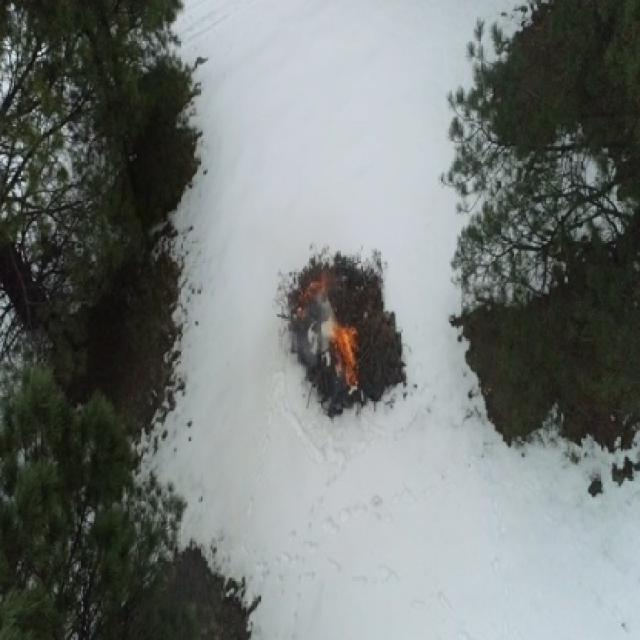Fire: (342, 325, 359, 383), (334, 327, 358, 360), (300, 285, 321, 303), (318, 273, 328, 292), (297, 304, 303, 318)
